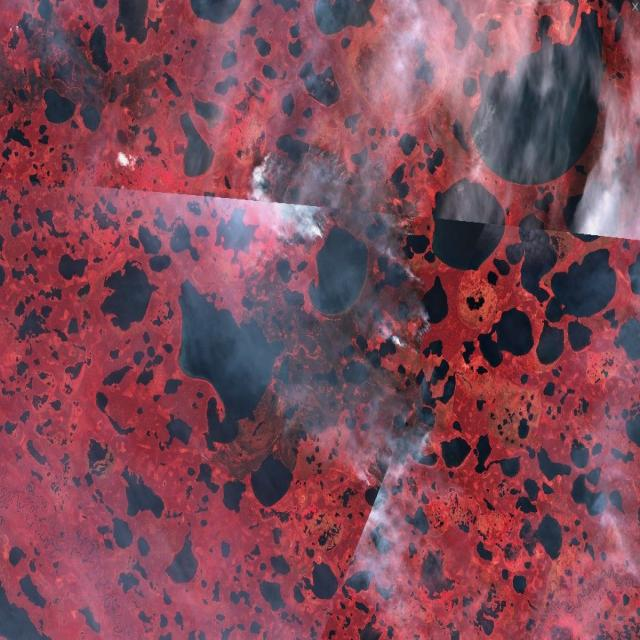fire: (246, 125, 444, 490)
